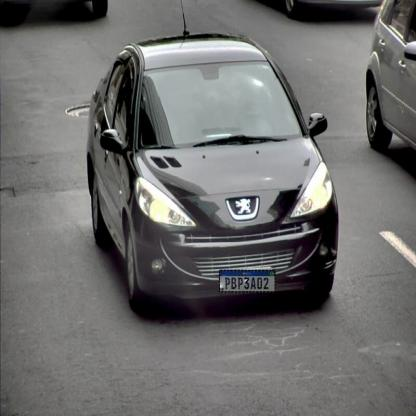PlacaM: (219, 270, 276, 292)
